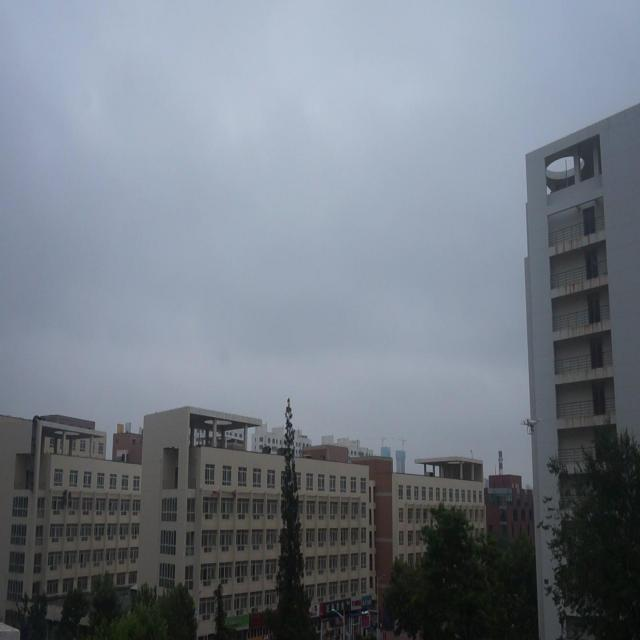UAV: (520, 418, 541, 435)
